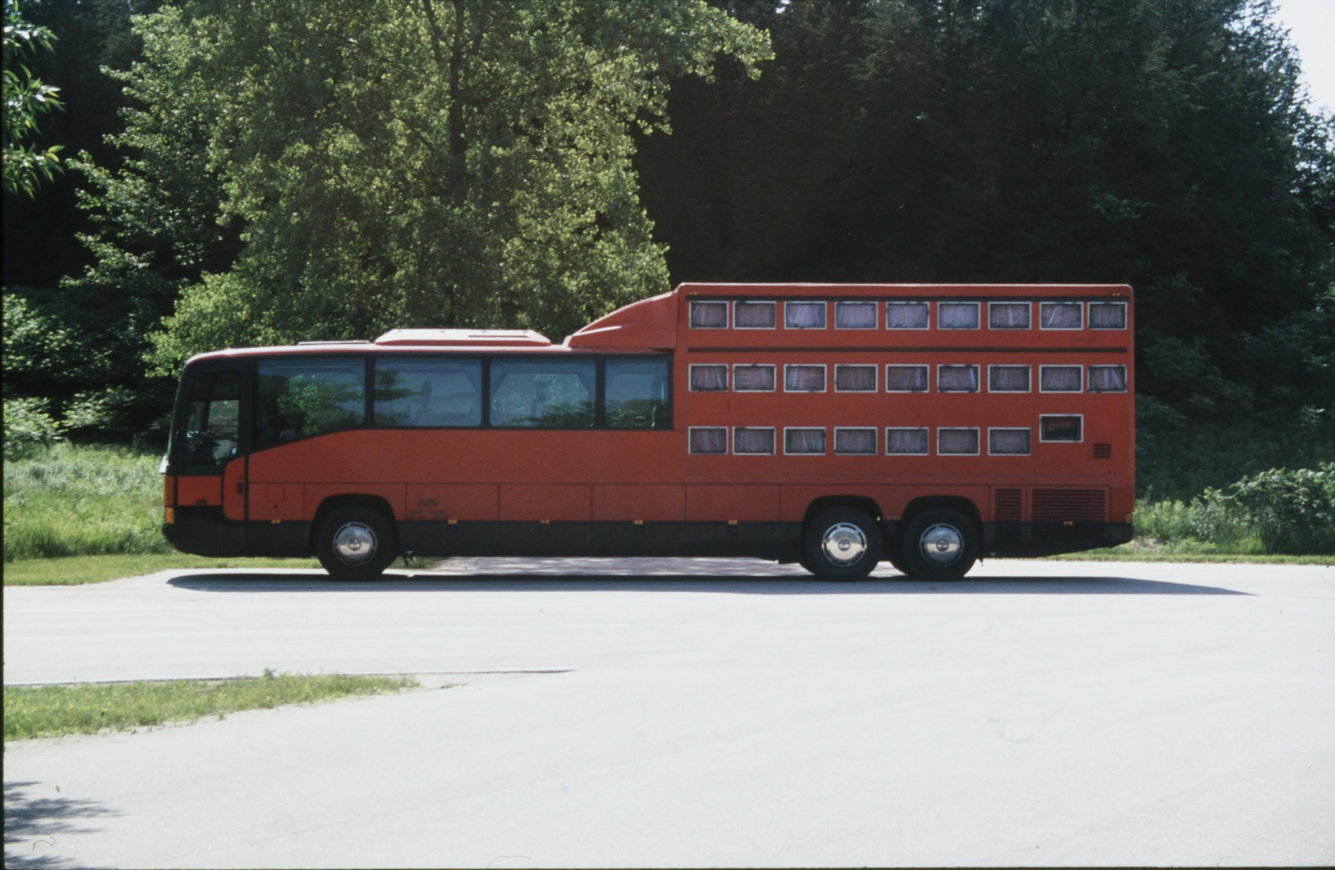Bus: (161, 283, 1142, 581)
